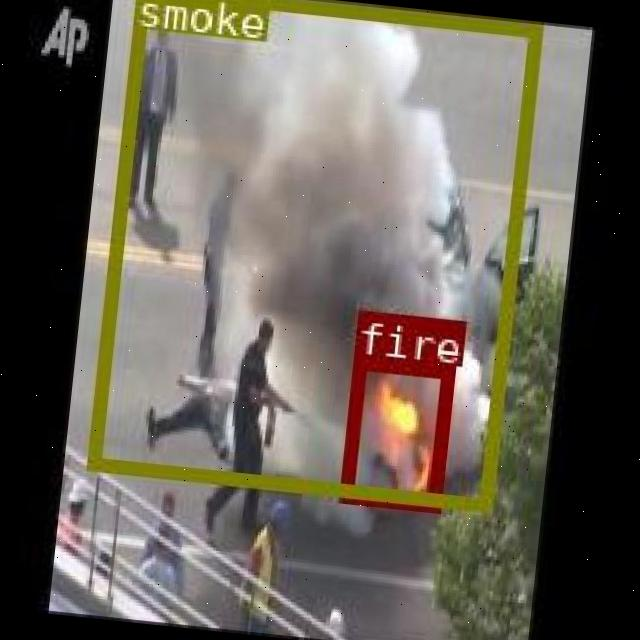fire: (338, 352, 453, 508)
smoke: (84, 0, 538, 508)
